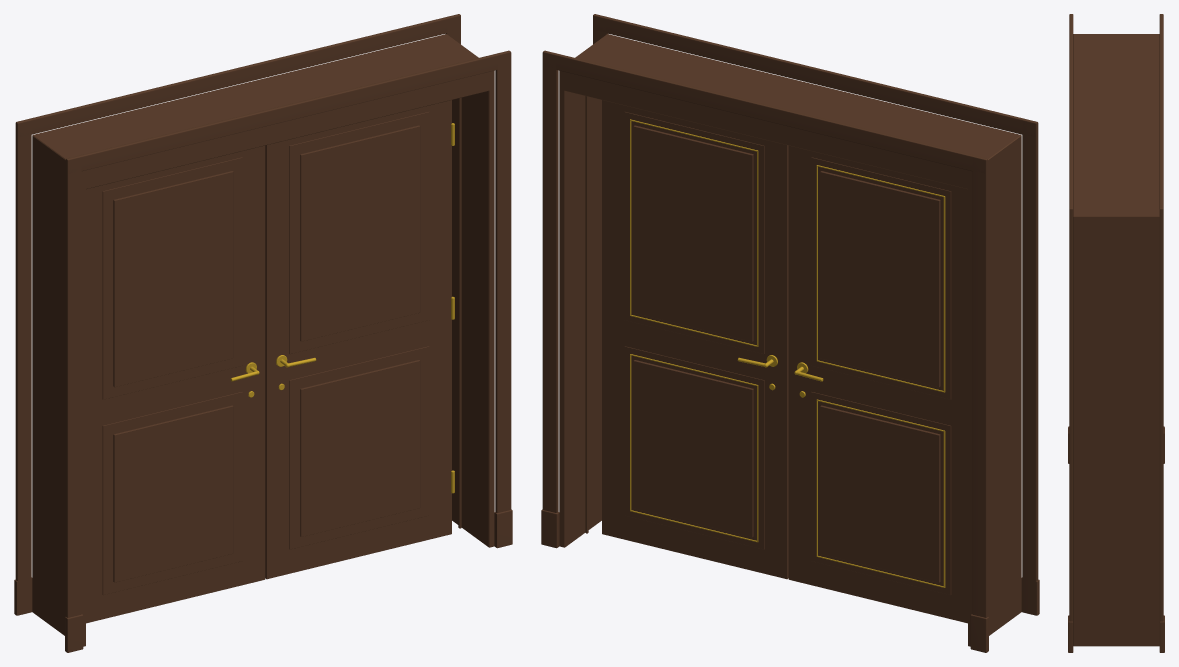
File: prop_door_double_walnut_t40.glb
3 renders of one model, left to right at view 1: azimuth 30°, elevation 25°; view 2: azimuth 150°, elevation 25°; view 3: azimuth 270°, elevation 25°, orthographic. The views are drawn at different scales.
Parts seen in each view (by area): view 1: Frame, LeafMesh2, LeafMesh; view 2: Frame, LeafMesh2, LeafMesh; view 3: Frame.
Boxes of the visible parts, <box> form: Frame: <box>14,14,512,652</box>; LeafMesh2: <box>265,100,454,579</box>; LeafMesh: <box>86,145,265,623</box>; Frame: <box>541,14,1039,652</box>; LeafMesh2: <box>602,100,788,579</box>; LeafMesh: <box>788,145,967,623</box>; Frame: <box>1068,14,1164,652</box>.
Size of what is drawn, in the model's own units: 2.15 by 2.27 by 0.448.
